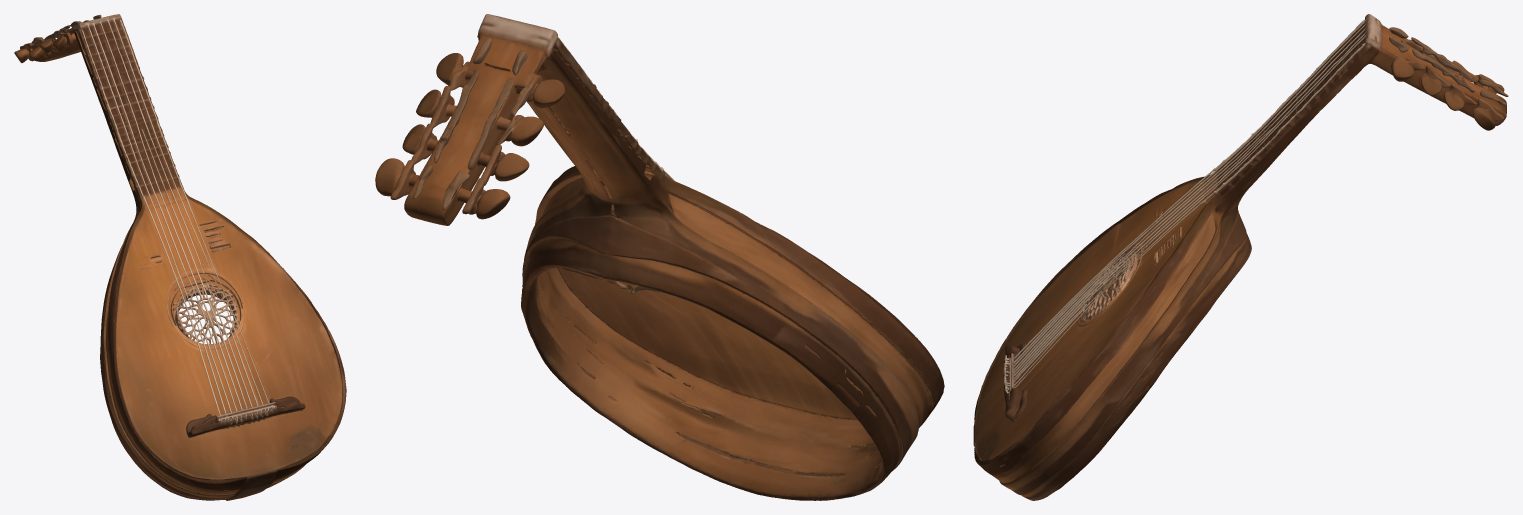
The model's file is lute.glb.
3 renders of one model, left to right at view 1: azimuth 30°, elevation 25°; view 2: azimuth 150°, elevation 25°; view 3: azimuth 270°, elevation 25°, orthographic. The views are drawn at different scales.
Parts seen in each view (by area): view 1: world; view 2: world; view 3: world.
Boxes of the visible parts, box(x1,y1,x2,y2) form: world: box(14, 14, 346, 500); world: box(375, 14, 944, 500); world: box(973, 14, 1508, 500).
Size of the model in its own units: 0.5523 by 0.9194 by 0.9708.
Materials: 1 (1 with a texture image).
